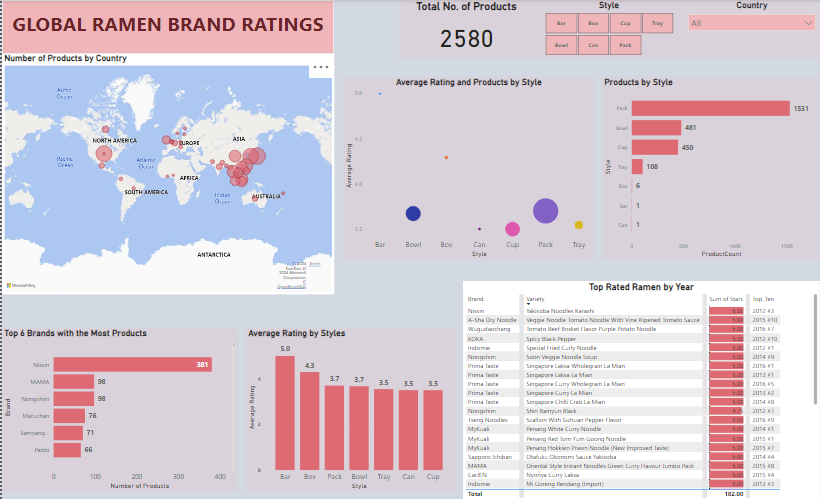

Layout of this report page (visuals, bound fields, positions):
{"tool":"powerbi","page":{"name":"Page 1","canvas":[1800,1100],"ordinal":0},"visuals":[{"type":"barChart","title":"Products by Style","fields":{"Category":["Ramenreviews.Style"],"Y":["Ramenreviews.ProductCount"]},"box":[1320.9,169.8,479.1,402.3],"z":0},{"type":"map","title":"Number of Products by Country","fields":{"Category":["Ramenreviews.Country"],"Size":["Ramenreviews.ProductCount"]},"box":[0,116.7,730.6,530.6],"z":1000},{"type":"columnChart","title":"Average Rating by Styles","fields":{"Category":["Ramenreviews.Style"],"Y":["Avg(Ramenreviews.Stars)"]},"box":[537.2,720.9,460.5,360.5],"z":2000},{"type":"tableEx","title":"Top Rated Ramen by Year","fields":{"Values":["Ramenreviews.Brand","Ramenreviews.Variety","Avg(Ramenreviews.Stars)","Ramenreviews.Top_Ten"]},"box":[1015,617.5,785,482.5],"z":3000},{"type":"barChart","title":"Top 6 Brands with the Most Products","fields":{"Category":["Ramenreviews.Brand"],"Y":["Count(Ramenreviews.Review_No)"]},"box":[0,720.9,518.6,360.5],"z":5000},{"type":"scatterChart","title":"Average Rating and Products by Style","fields":{"Y":["Avg(Ramenreviews.Stars)"],"X":["Ramenreviews.Style"],"Size":["Ramenreviews.ProductCount"]},"box":[751.2,169.8,553.5,402.3],"z":6000},{"type":"slicer","title":"Country","fields":{"Values":["Ramenreviews.Country"]},"box":[1500.4,0,299.2,127.6],"z":7000},{"type":"card","title":"Total No. of Products","fields":{"Values":["Ramenreviews.ProductCount"]},"box":[873.4,0,297,127.6],"z":8000},{"type":"slicer","title":"Style","fields":{"Values":["Ramenreviews.Style"]},"box":[1170.4,0,330,127.6],"z":8001},{"type":"textbox","box":[0,0,730.4,117.7],"z":8002}]}

Visuals, with their boxes in screenshot pixels (x1, y1, x2, y2), scaled from the page's 1800x1100 canvas onto the 820x499 screenshot:
"Products by Style" barChart: 602 77 819 260
"Number of Products by Country" map: 0 53 333 294
"Average Rating by Styles" columnChart: 245 327 455 491
"Top Rated Ramen by Year" tableEx: 462 280 819 498
"Top 6 Brands with the Most Products" barChart: 0 327 236 491
"Average Rating and Products by Style" scatterChart: 342 77 594 260
"Country" slicer: 684 0 819 58
"Total No. of Products" card: 398 0 533 58
"Style" slicer: 533 0 684 58
textbox: 0 0 333 53
